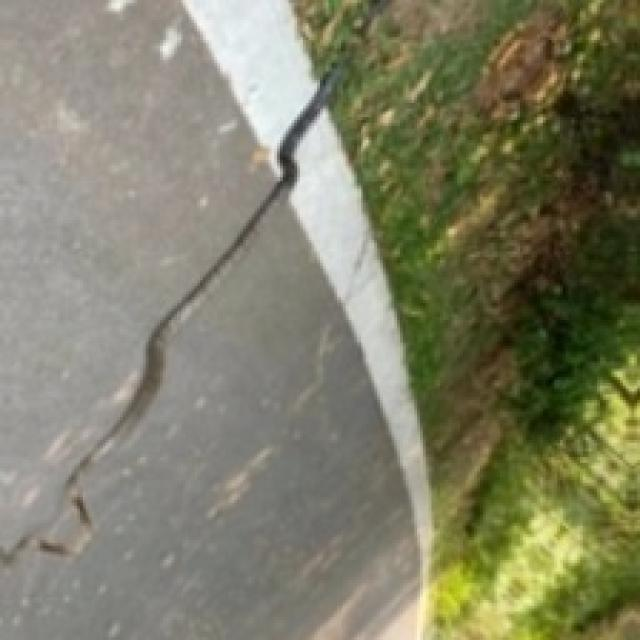king cobra: (0, 154, 294, 557)
